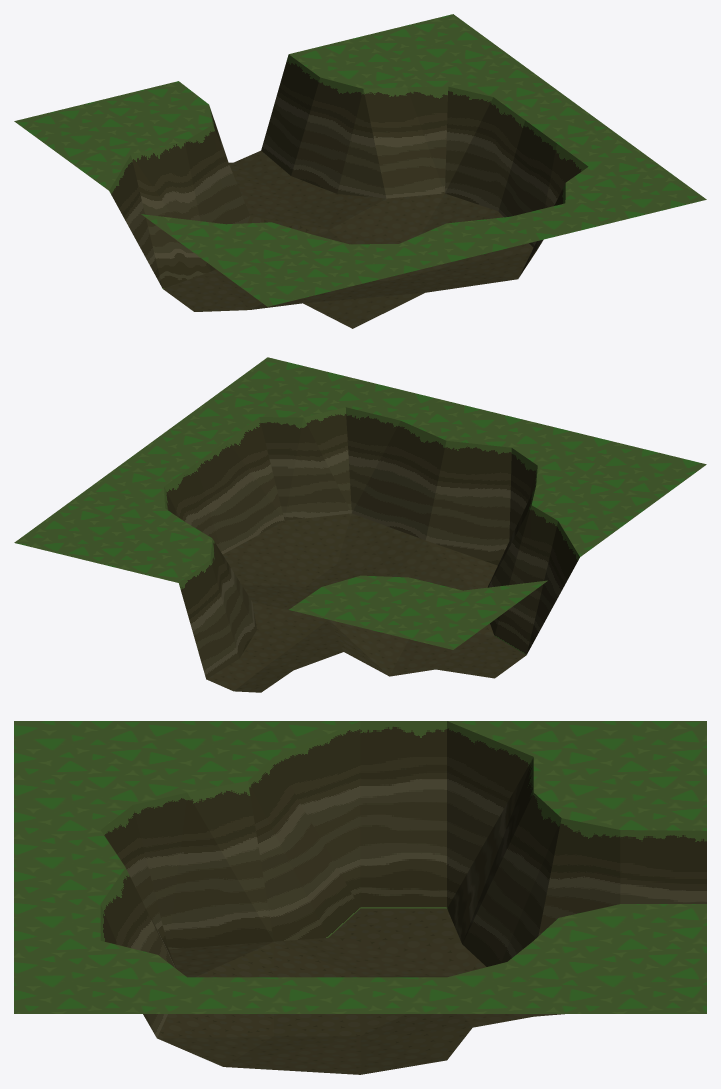
File: chunk_0004.glb
3 renders of one model, top to bottom at view 1: azimuth 30°, elevation 25°; view 2: azimuth 150°, elevation 25°; view 3: azimuth 270°, elevation 25°, orthographic. The views are drawn at different scales.
Visible parts, largest first — view 1: chunk_0004; view 2: chunk_0004; view 3: chunk_0004.
Part boxes in pixels (box(x1,y1,x2,y2)): chunk_0004: box(14, 14, 706, 328); chunk_0004: box(14, 357, 706, 692); chunk_0004: box(14, 721, 706, 1074).
Size of the model in its own units: 10 by 2.56 by 10.
3 materials, 3 textured.
